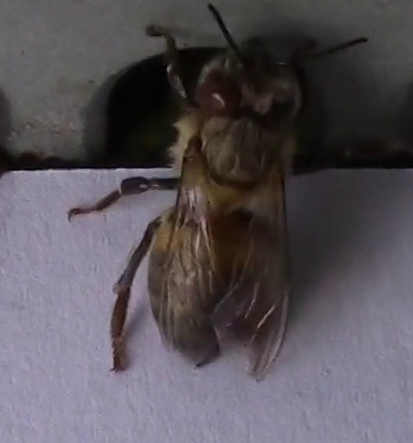Varroa destructor: (197, 73, 240, 114)
